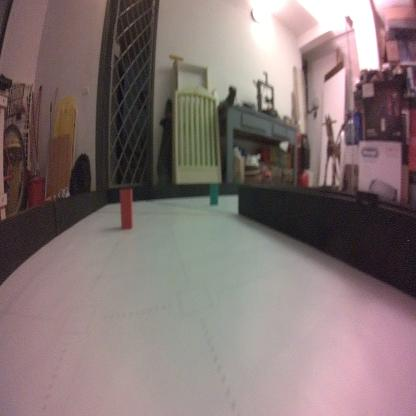green: (209, 182, 219, 207)
red: (118, 187, 134, 232)
